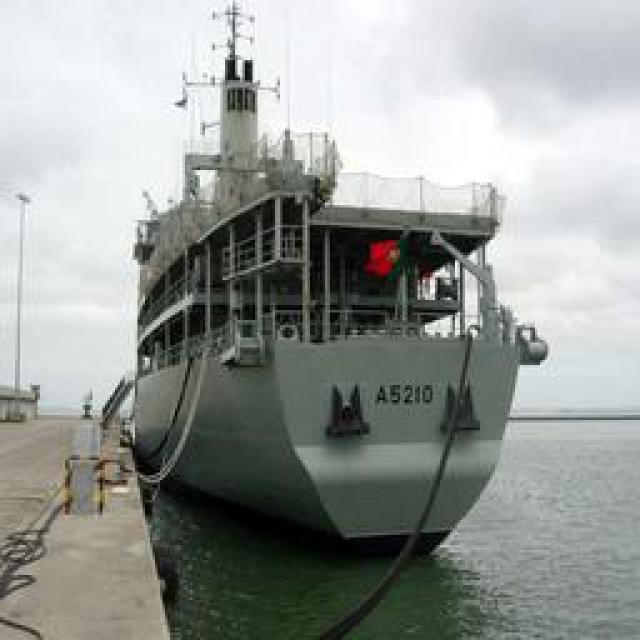Ship: (137, 99, 540, 564)
